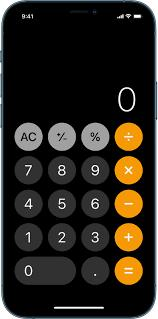Calculator: (8, 82, 156, 291)
